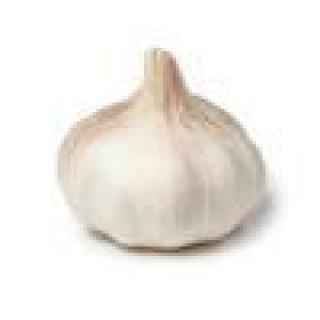Bawang Putih: (59, 40, 270, 261)
